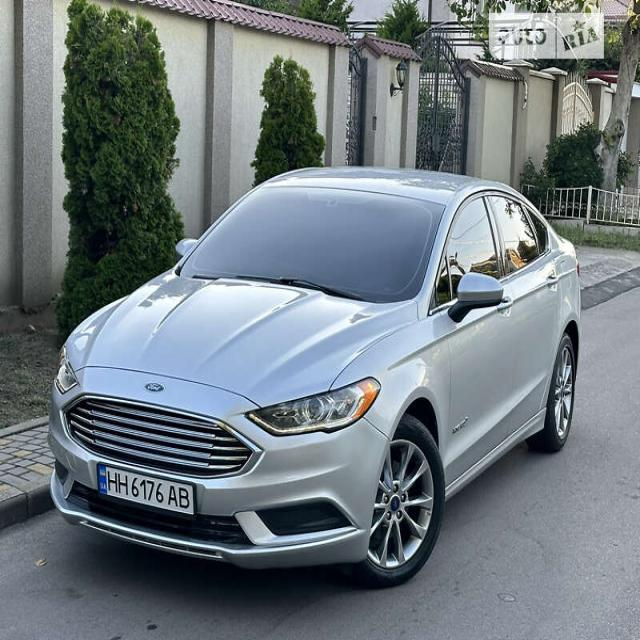plate: (92, 458, 200, 526)
